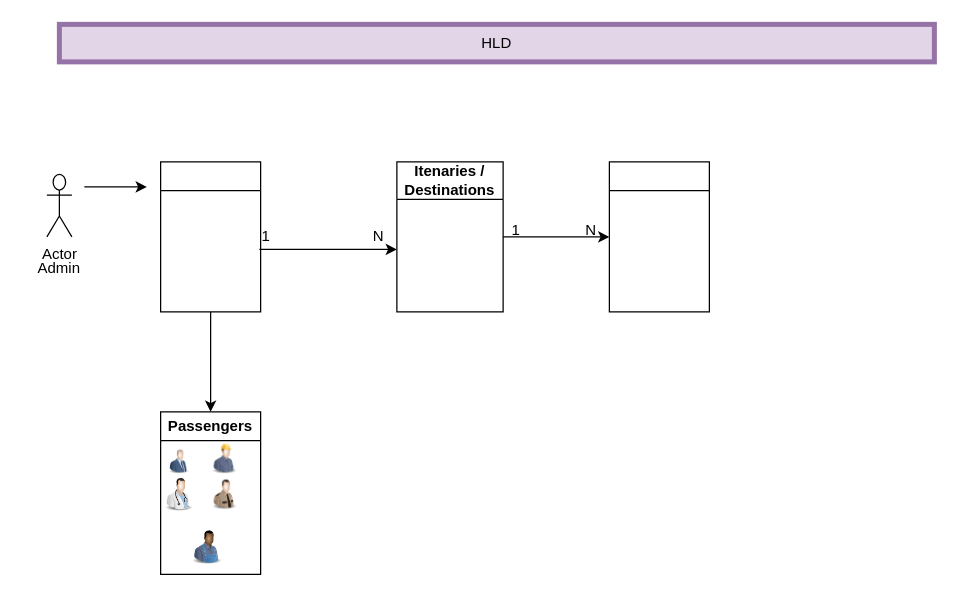
Some shapes in this 958 by 596 pixel diagram are drawn without their labels. The box of each missing label's shape, as (x1, y1, x2, y2) in pixels:
Activities: (608, 161, 709, 312)
Package: (159, 161, 261, 312)
